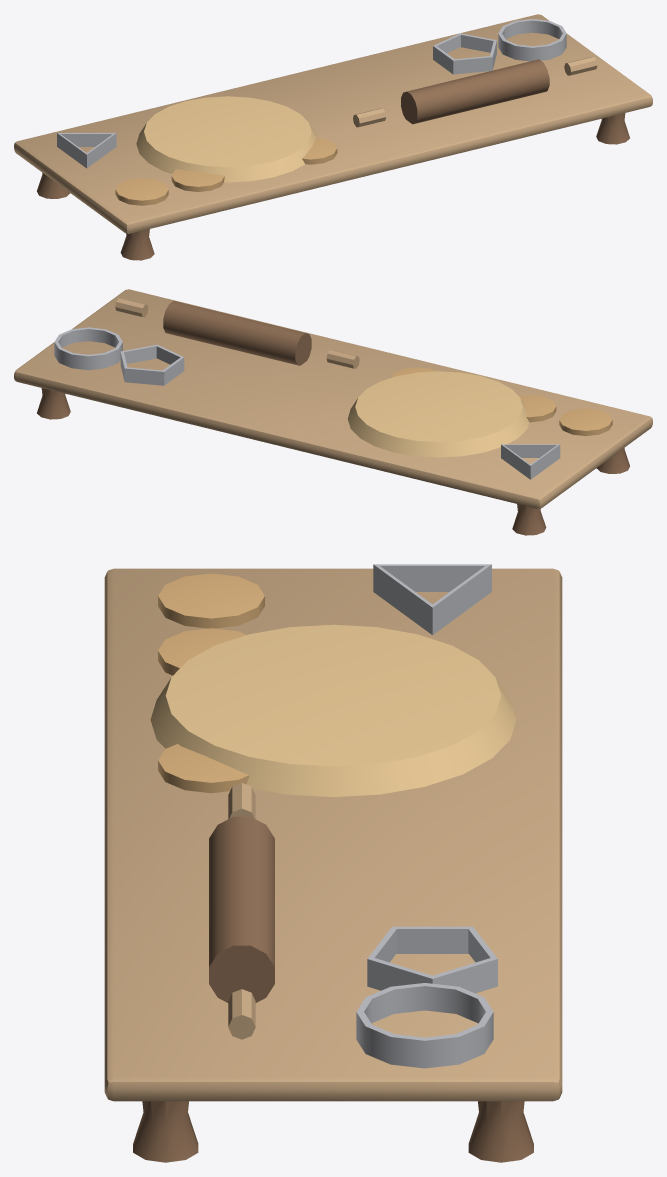
File: Bakery_DoughTable.fbx
3 renders of one model, top to bottom at view 1: azimuth 30°, elevation 25°; view 2: azimuth 150°, elevation 25°; view 3: azimuth 270°, elevation 25°, orthographic. The views are drawn at different scales.
Visible parts, largest first — view 1: Bakery_DoughTable; view 2: Bakery_DoughTable; view 3: Bakery_DoughTable.
Part boxes in pixels (<box>): Bakery_DoughTable: <box>14,14,652,260</box>; Bakery_DoughTable: <box>14,289,652,535</box>; Bakery_DoughTable: <box>104,564,562,1162</box>.
Bounding box in the file's own units: 16 × 2.18 × 6.
